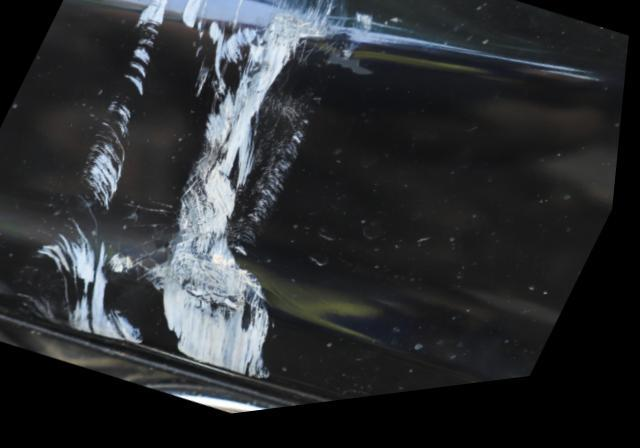scratch: (24, 0, 403, 395)
